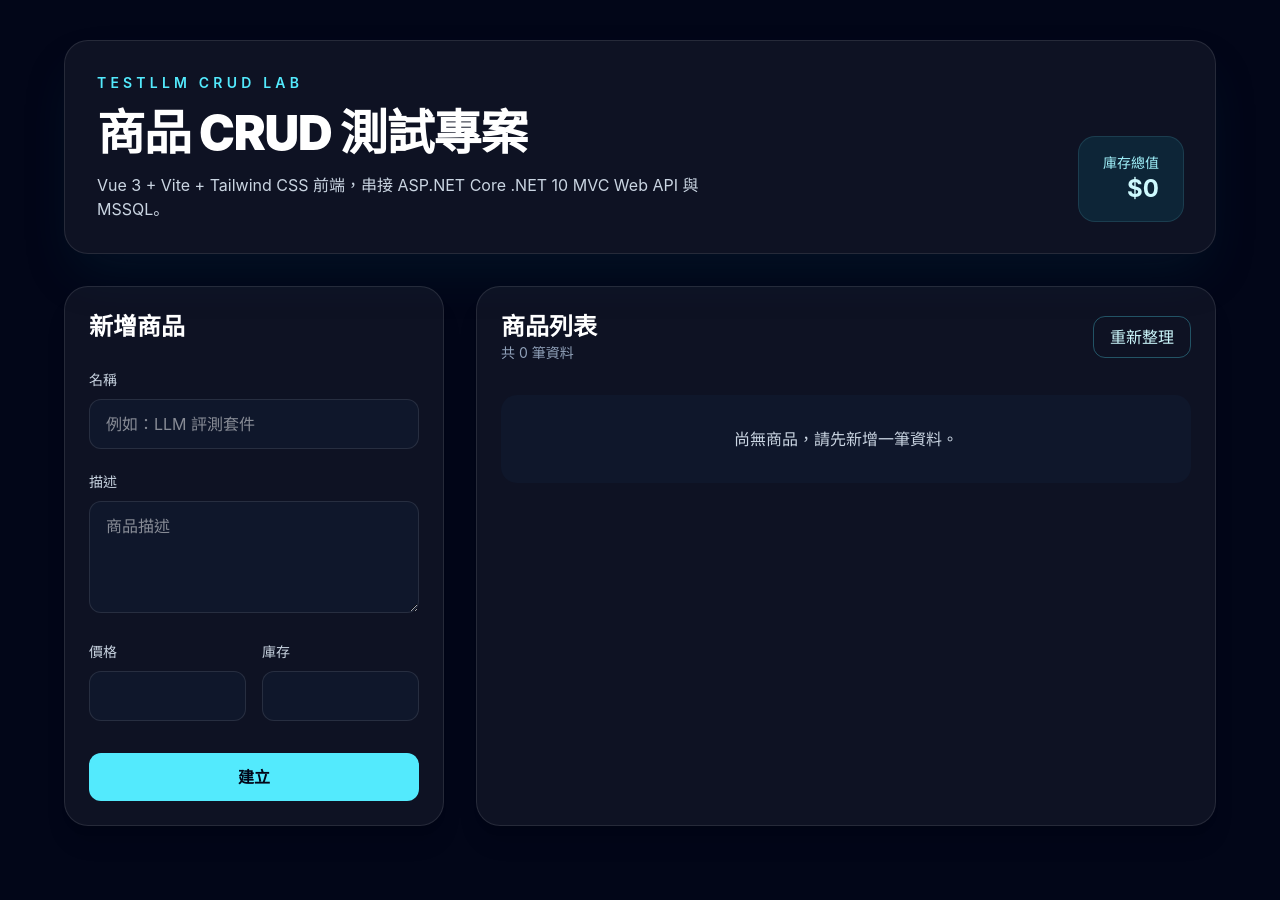
Test: App › validates name, price, and stock before submitting
This screenshot has width=1280, height=900.
Submit the form, box x1=64 y1=286 x2=444 y2=826
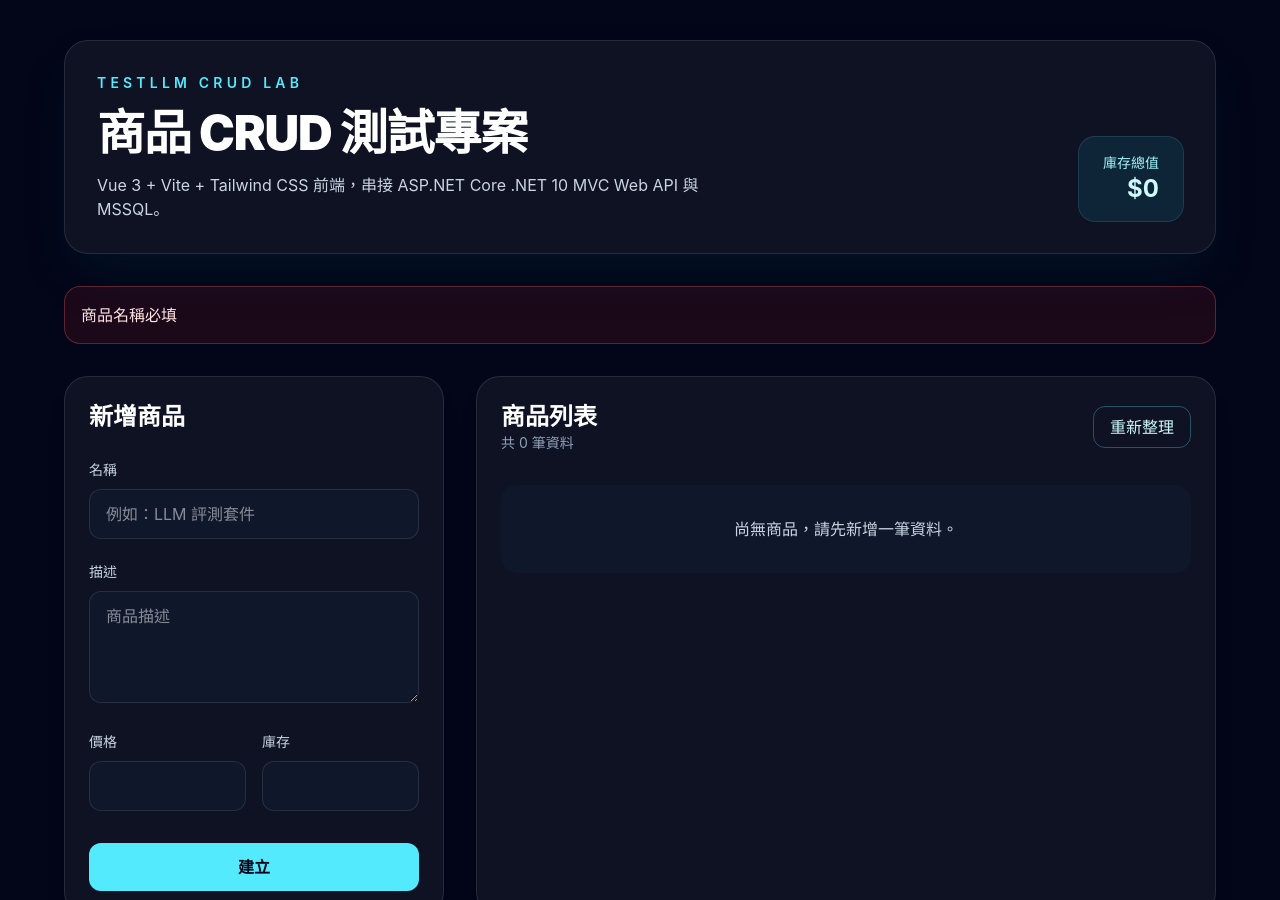
Expected: the text "商品名稱必填" is shown, x1=64 y1=286 x2=1216 y2=344
In the field with placeholder "例如：LLM 評測套件": (254, 514) x1=89 y1=489 x2=419 y2=539, type "新商品"
Clear the number field labelled "價格": (168, 786) x1=89 y1=761 x2=246 y2=811
(page scrolled)
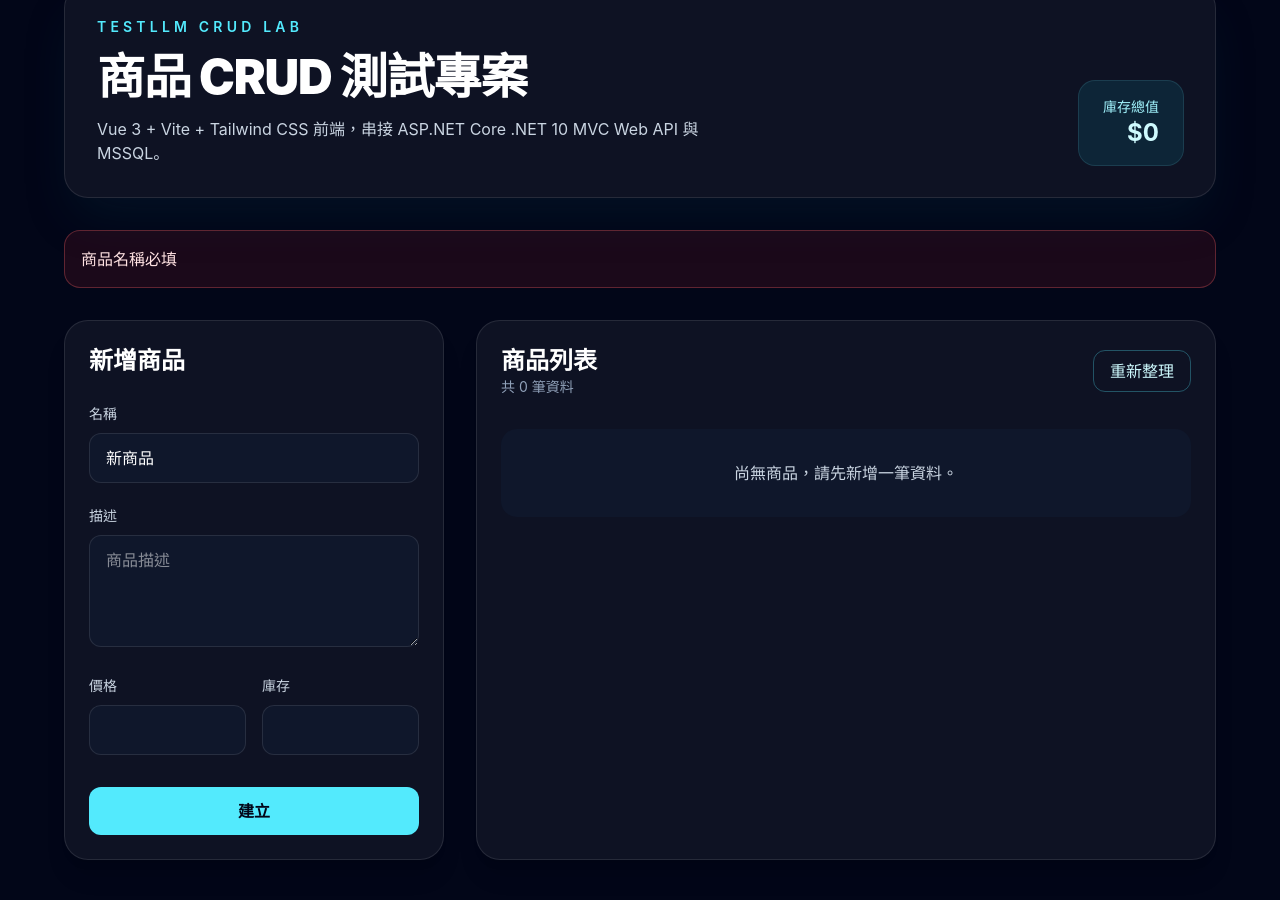
Submit the form, box x1=64 y1=320 x2=444 y2=860
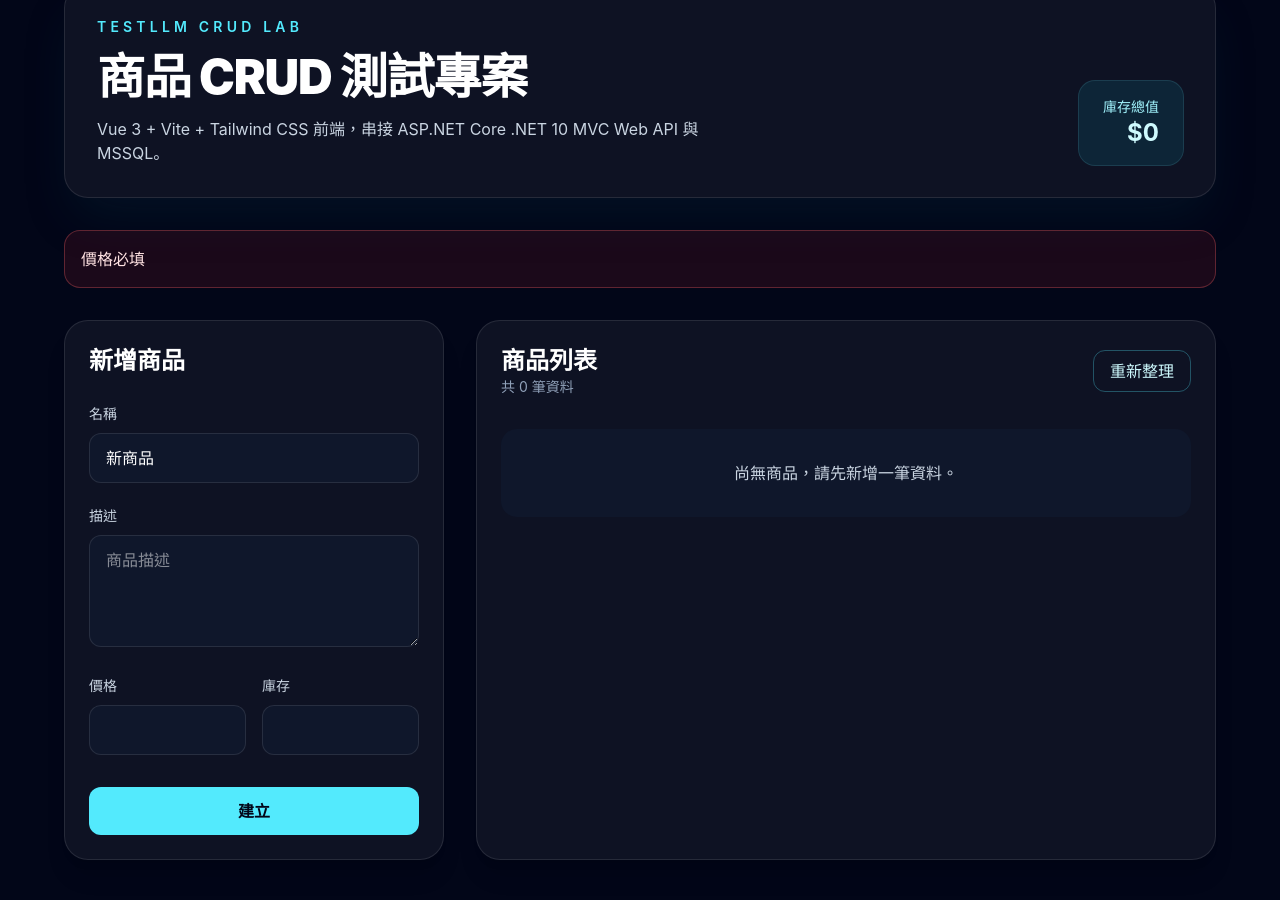
Expected: the text "價格必填" is shown, x1=64 y1=230 x2=1216 y2=288
In the number field labelled "價格": (168, 730) x1=89 y1=705 x2=246 y2=755, type "100"
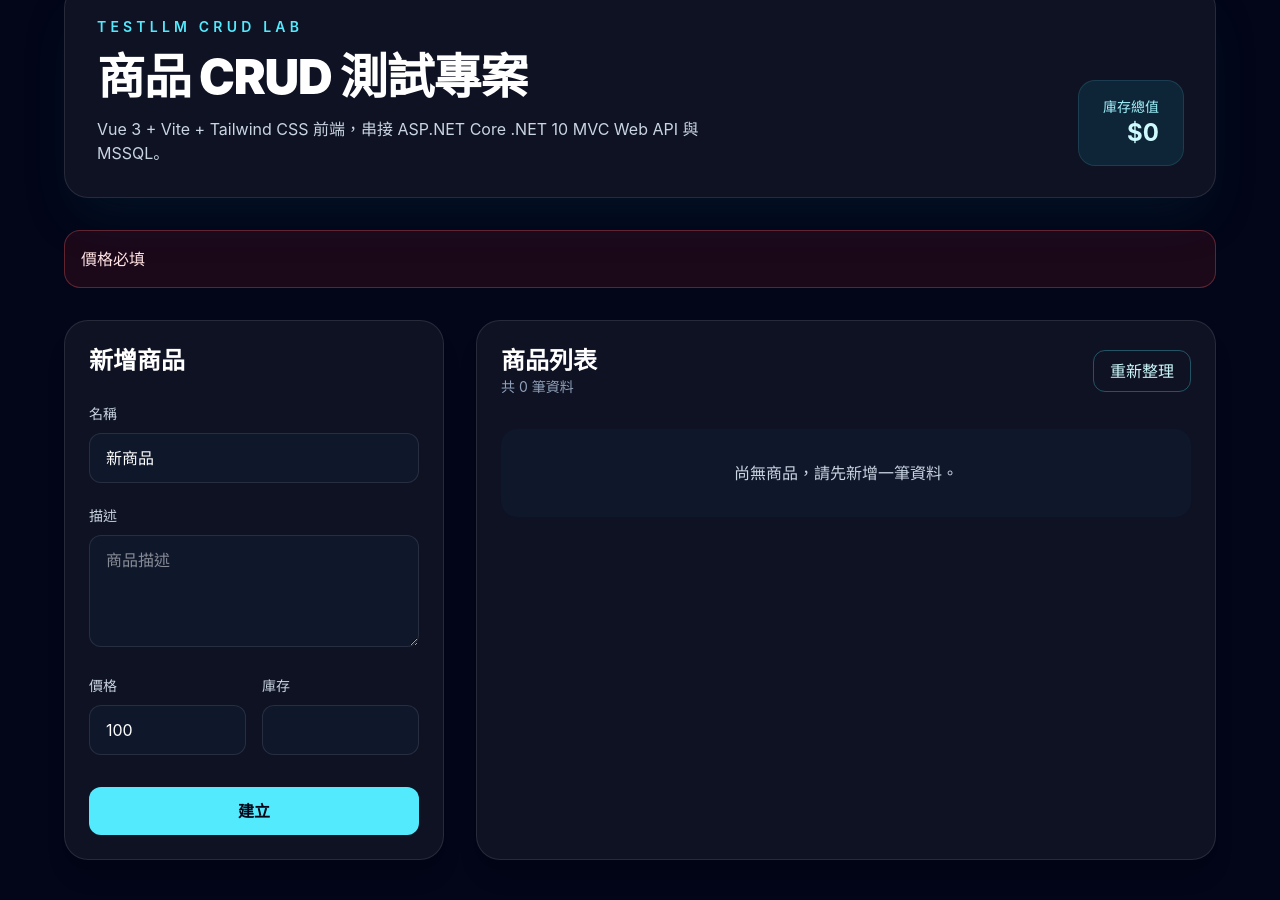
In the number field labelled "庫存": (340, 730) x1=262 y1=705 x2=419 y2=755, type "-1.5"
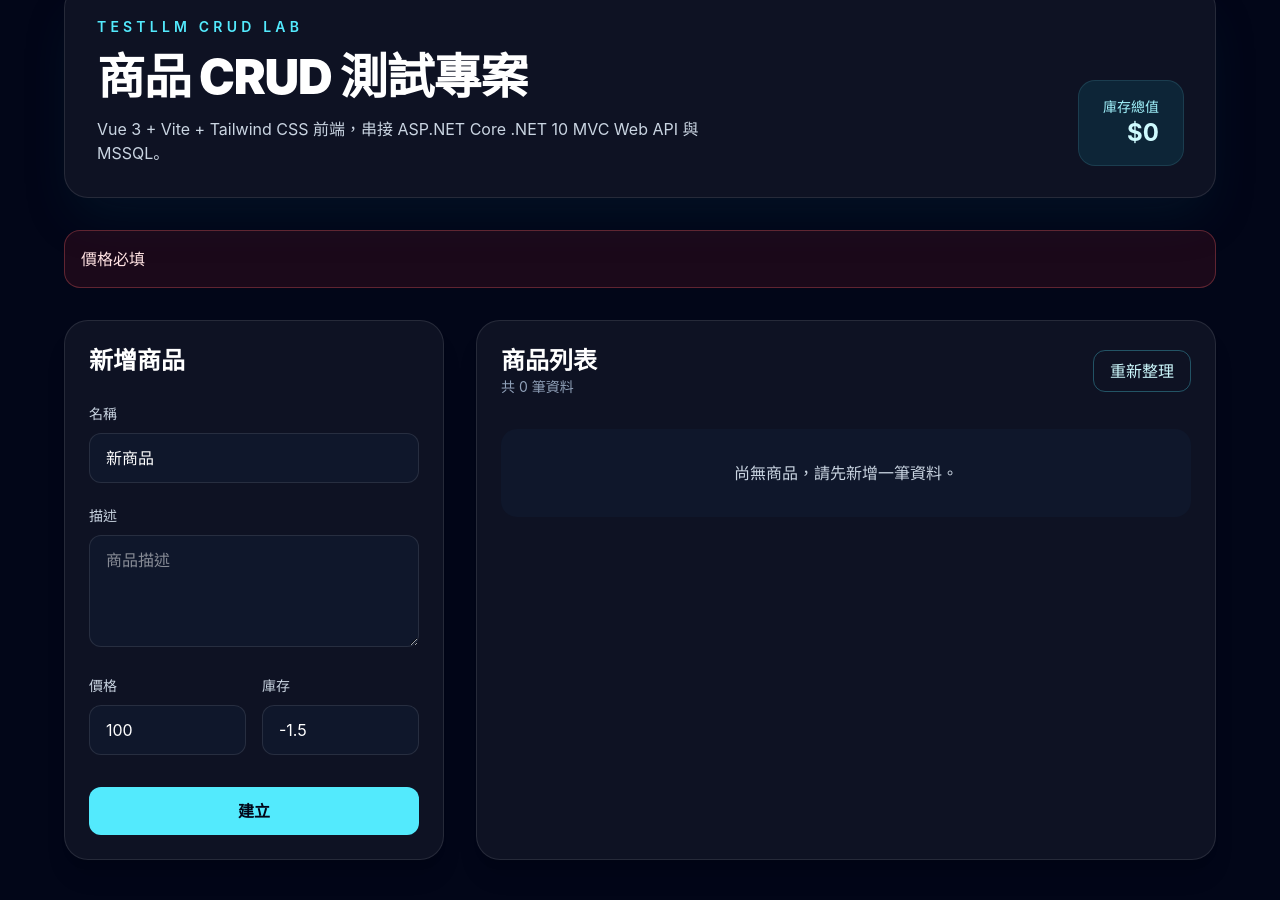
Submit the form, box x1=64 y1=320 x2=444 y2=860
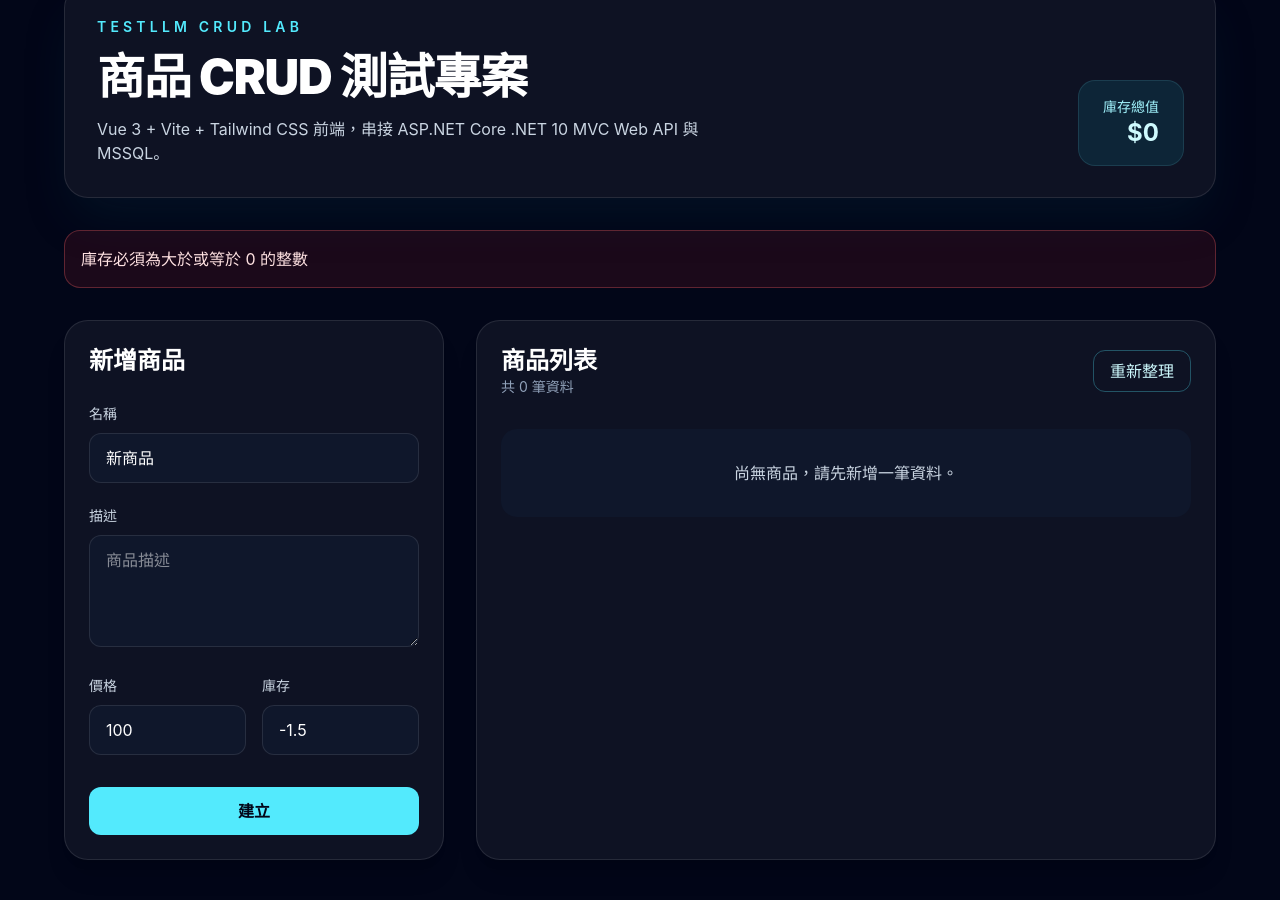
Expected: the text "庫存必須為大於或等於 0 的整數" is shown, x1=64 y1=230 x2=1216 y2=288
